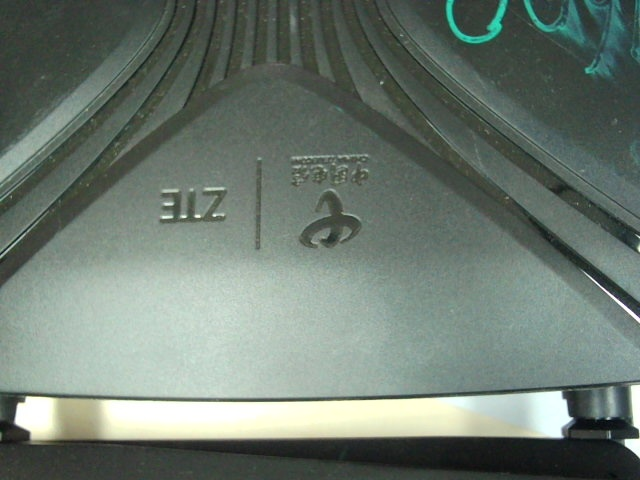AX_ZTEChinaTelecom: (149, 151, 384, 254)
